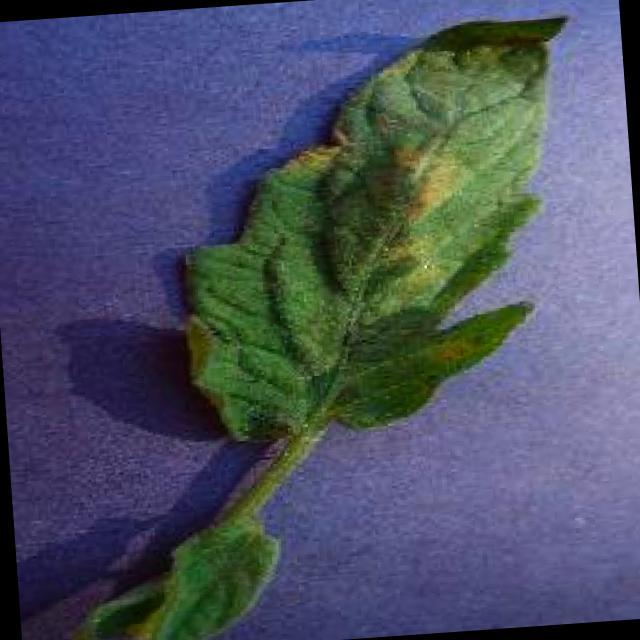Tomato mold leaf: (164, 12, 596, 449)
